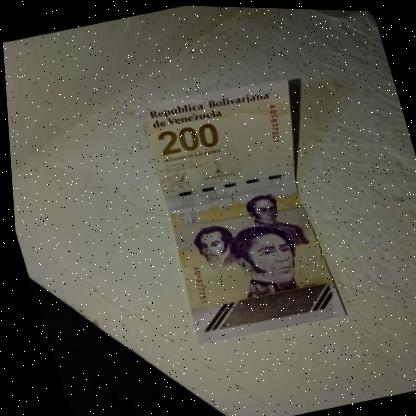two_hundred-front-vef: (125, 70, 355, 348)
